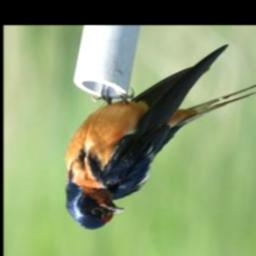Swallow: (63, 48, 256, 234)
